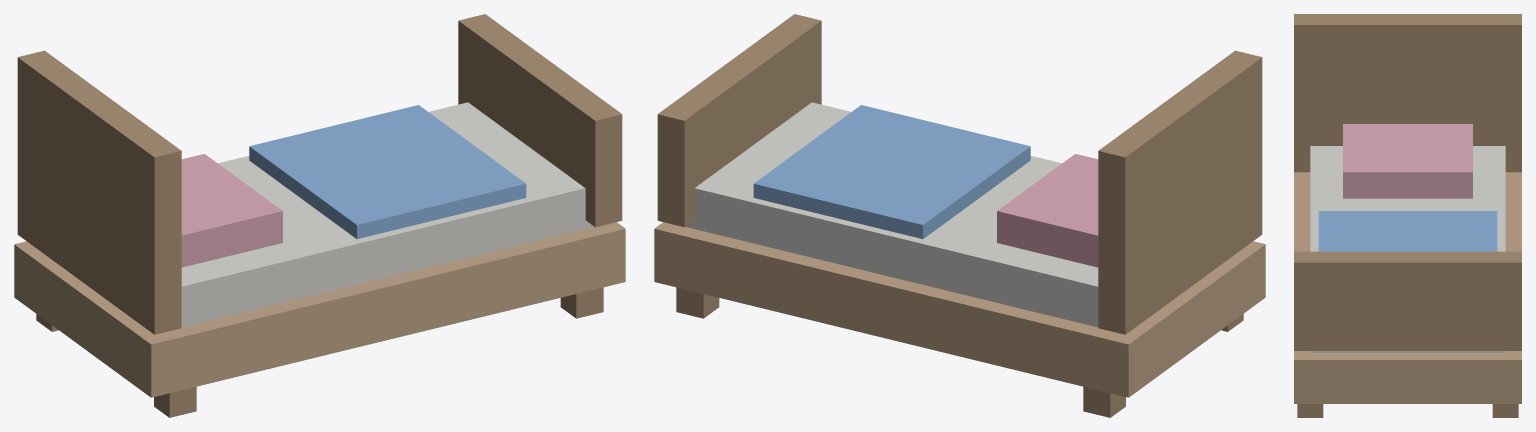
The model's file is kid_cama_inf.glb.
3 renders of one model, left to right at view 1: azimuth 30°, elevation 25°; view 2: azimuth 150°, elevation 25°; view 3: azimuth 270°, elevation 25°, orthographic. The views are drawn at different scales.
Visible parts, largest first — view 1: KID_CAMA_INF_v01; view 2: KID_CAMA_INF_v01; view 3: KID_CAMA_INF_v01.
Part boxes in pixels (x1=…): KID_CAMA_INF_v01: x1=14, y1=14, x2=625, y2=417; KID_CAMA_INF_v01: x1=654, y1=14, x2=1265, y2=417; KID_CAMA_INF_v01: x1=1294, y1=14, x2=1521, y2=417.
Bounding box in the file's own units: 1.4 × 0.75 × 0.7.
